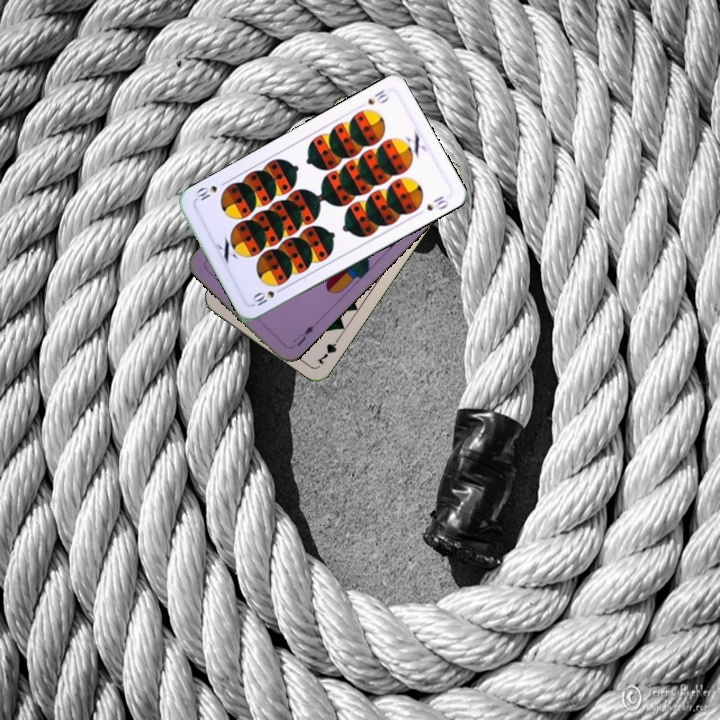EU: (289, 321, 317, 349)
G7: (312, 332, 343, 367)
S10: (248, 283, 287, 310), (363, 85, 392, 107)
